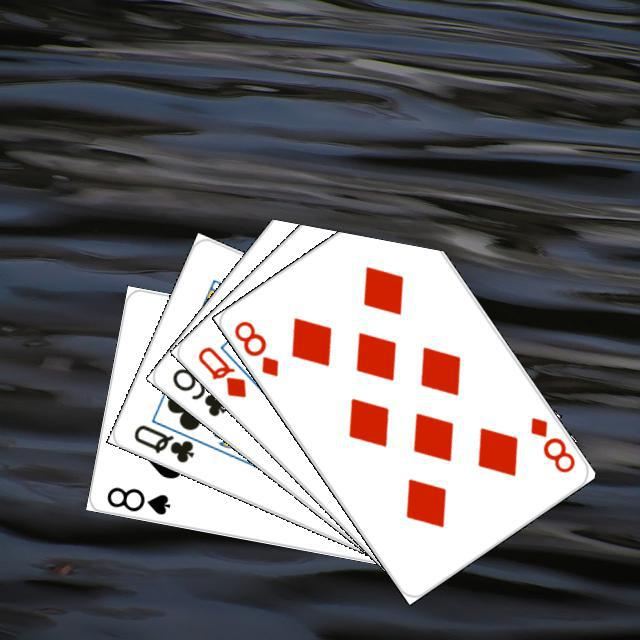8d: (229, 315, 281, 379), (525, 412, 577, 475)
8s: (101, 482, 172, 517)
9c: (167, 363, 229, 418)
Qc: (128, 412, 208, 465)
Qd: (192, 341, 248, 400)
